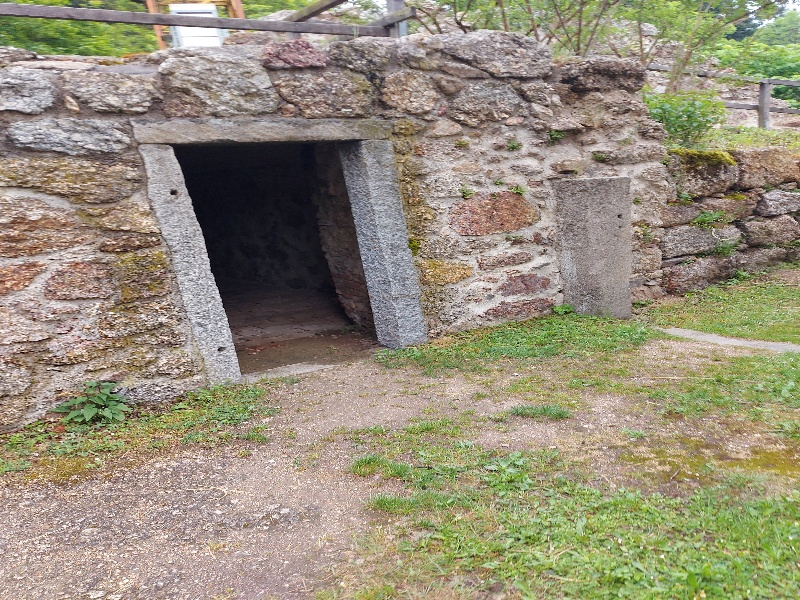door2: (112, 97, 444, 390)
